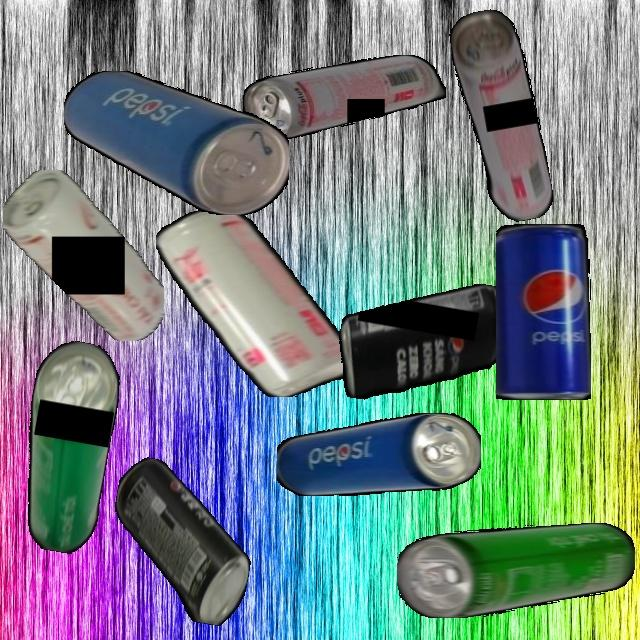debris: (156, 206, 358, 397), (63, 71, 289, 215), (98, 454, 265, 629), (330, 262, 511, 421), (2, 170, 164, 341), (7, 336, 127, 557), (446, 5, 556, 227), (397, 522, 635, 618), (242, 54, 446, 139), (276, 413, 481, 496), (495, 224, 591, 400)
